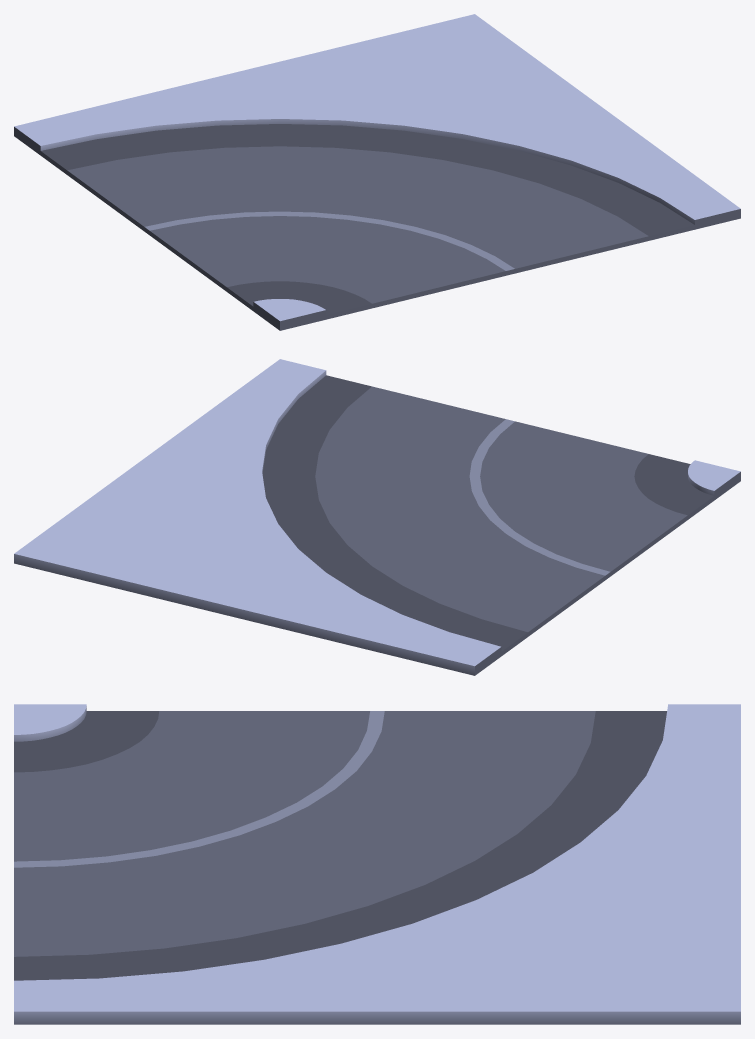
Rendered from road-bend-sidewalk.glb.
3 renders of one model, top to bottom at view 1: azimuth 30°, elevation 25°; view 2: azimuth 150°, elevation 25°; view 3: azimuth 270°, elevation 25°, orthographic. The views are drawn at different scales.
Parts seen in each view (by area): view 1: road-bend-sidewalk; view 2: road-bend-sidewalk; view 3: road-bend-sidewalk.
Boxes of the visible parts, box(x1,y1,x2,y2) form: road-bend-sidewalk: box(14, 14, 740, 330); road-bend-sidewalk: box(14, 359, 740, 675); road-bend-sidewalk: box(14, 704, 740, 1024).
Size of the model in its own units: 1 by 0.02 by 1.
Materials: 1 (1 with a texture image).
